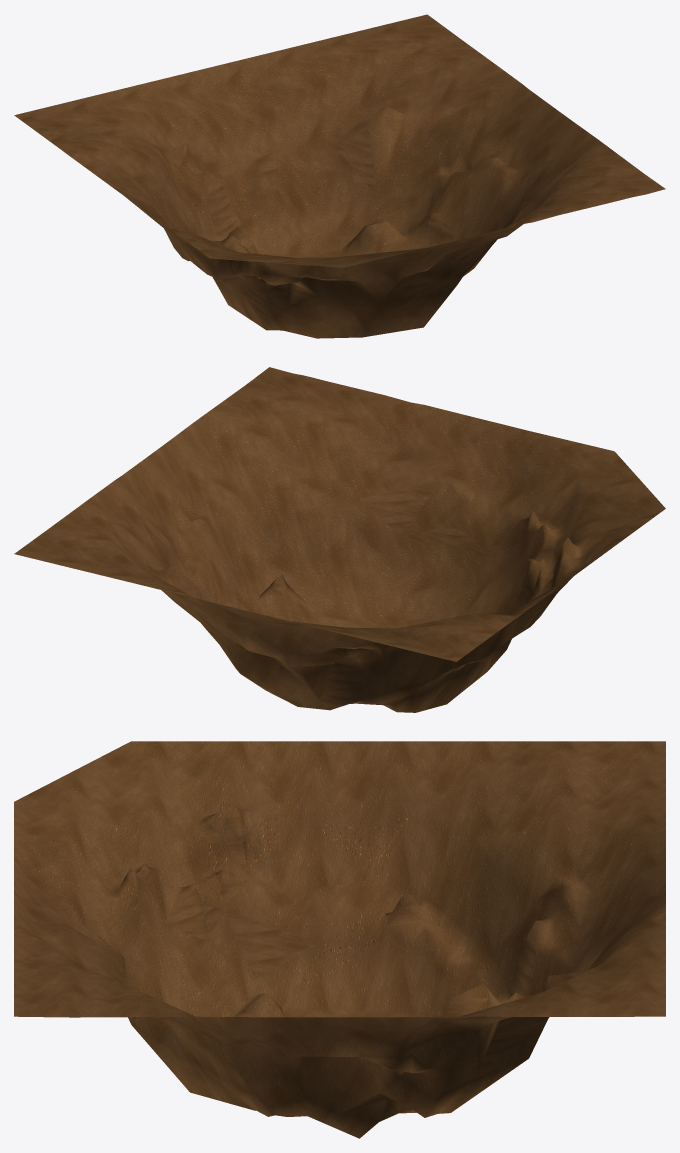
The model's file is vulcao.FBX.
3 views of the same model, one above another, from view 1: azimuth 30°, elevation 25°; view 2: azimuth 150°, elevation 25°; view 3: azimuth 270°, elevation 25° (orthographic). The views are drawn at different scales.
Parts seen in each view (by area): view 1: Plane01; view 2: Plane01; view 3: Plane01.
Boxes of the visible parts, left/top/right/bottom form: Plane01: left=14, top=14, right=665, bottom=338; Plane01: left=14, top=367, right=665, bottom=712; Plane01: left=14, top=741, right=665, bottom=1138.
Size of the model in its own units: 300 by 100 by 300.
1 material, 1 textured.
